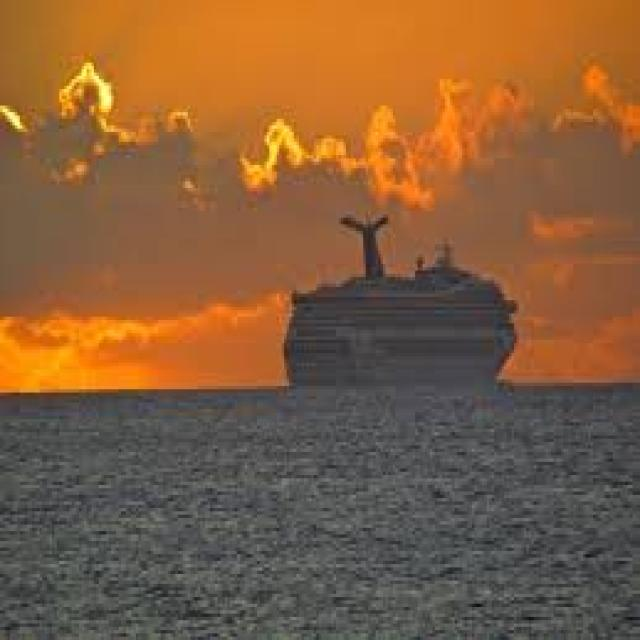passenger ship: (244, 187, 525, 414)
